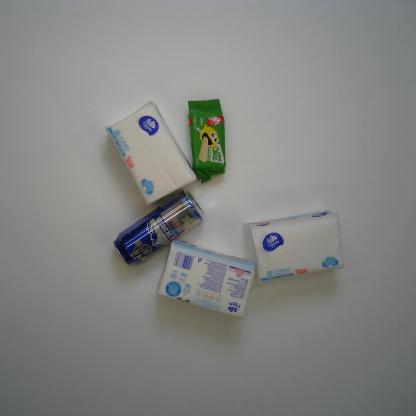Alcohol: (113, 190, 205, 266)
Dessert: (188, 98, 226, 185)
Tissue: (104, 101, 197, 206), (156, 240, 256, 319), (244, 210, 345, 283)
